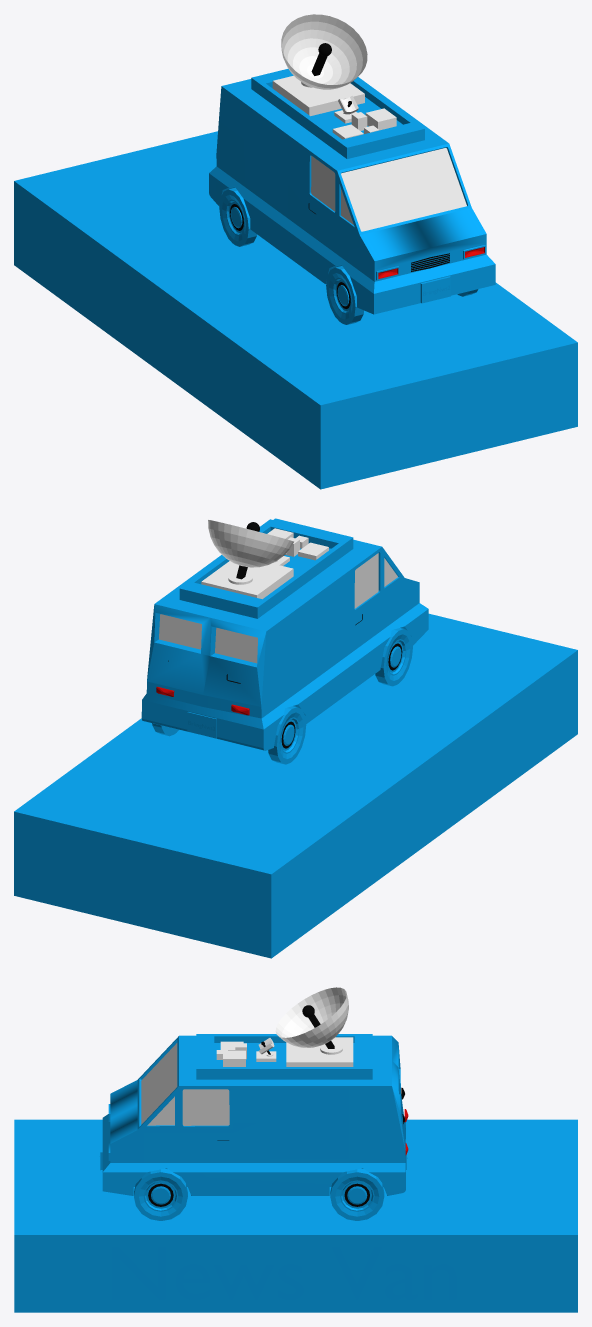
File: Low_poly_News_Van.glb
3 renders of one model, top to bottom at view 1: azimuth 30°, elevation 25°; view 2: azimuth 150°, elevation 25°; view 3: azimuth 270°, elevation 25°, orthographic. The views are drawn at different scales.
Visible parts, largest first — view 1: unnamed (×12); view 2: unnamed (×11); view 3: unnamed (×18).
Part boxes in pixels (bbox=[...]): unnamed (×12): bbox=[14, 14, 577, 489]; unnamed (×11): bbox=[14, 518, 577, 958]; unnamed (×18): bbox=[14, 987, 577, 1312].
Bounding box in the file's own units: 2.43 × 2.71 × 5.01.
